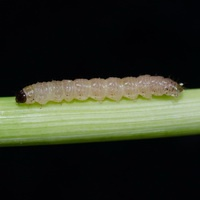insect: (16, 75, 182, 103)
